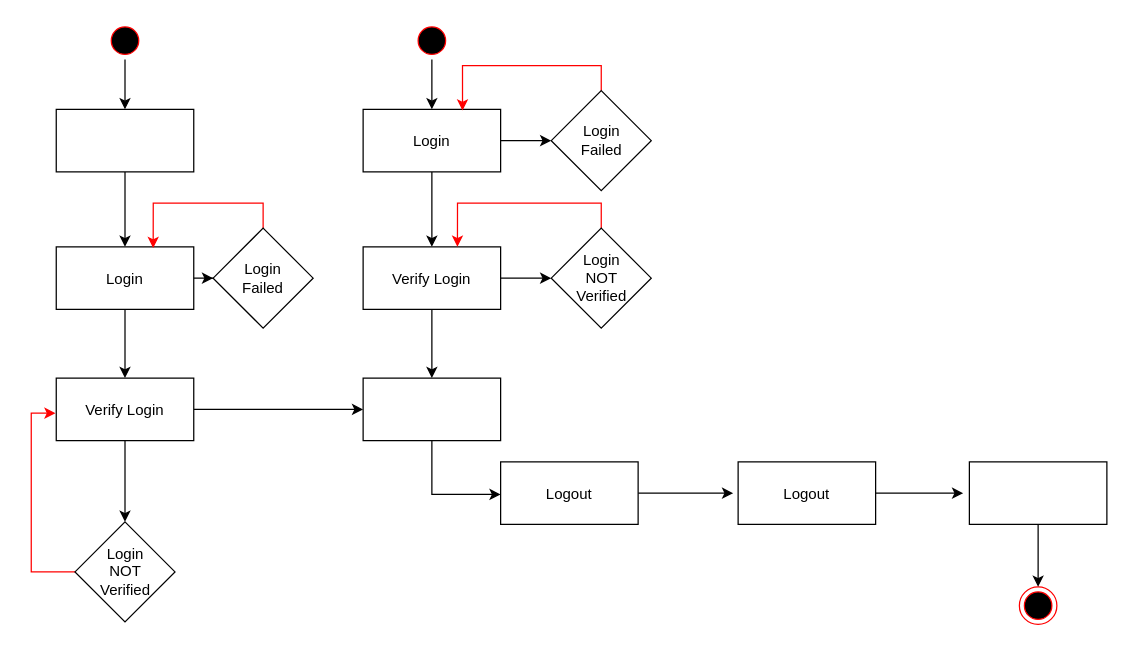
Image size: 1129x646. Some labels were removed from this diagram. The shapes that lost their labels are listed below. From the top down, each one's centre as x and y in pixels, then its label:
[124,140]: Gain Seller Privileges
[431,409]: Menu
[1037,492]: Confirm Logout
